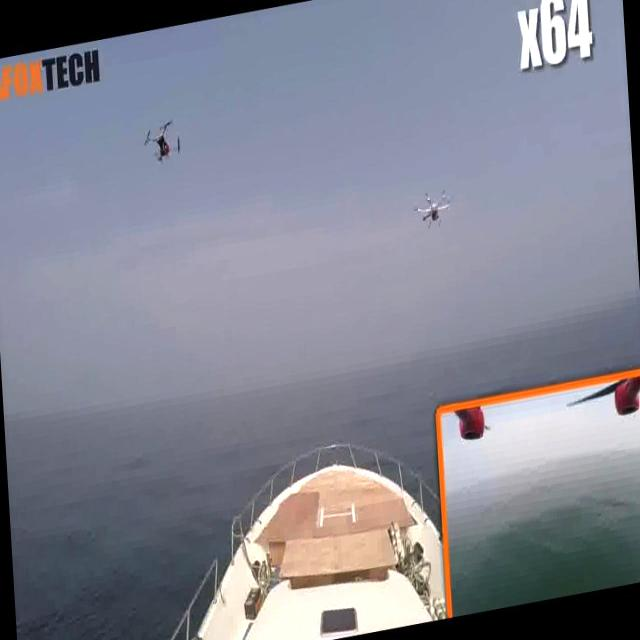drone: (138, 104, 189, 172), (410, 178, 460, 240)
